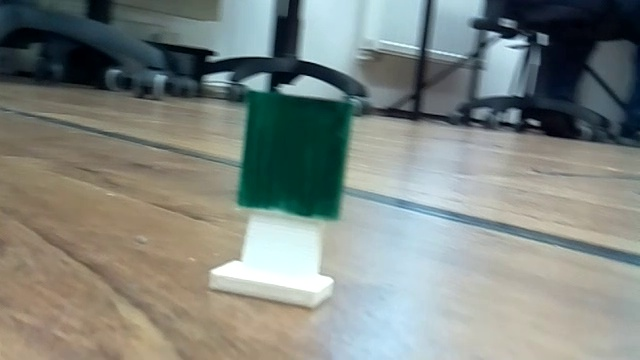rect: (194, 85, 377, 314)
